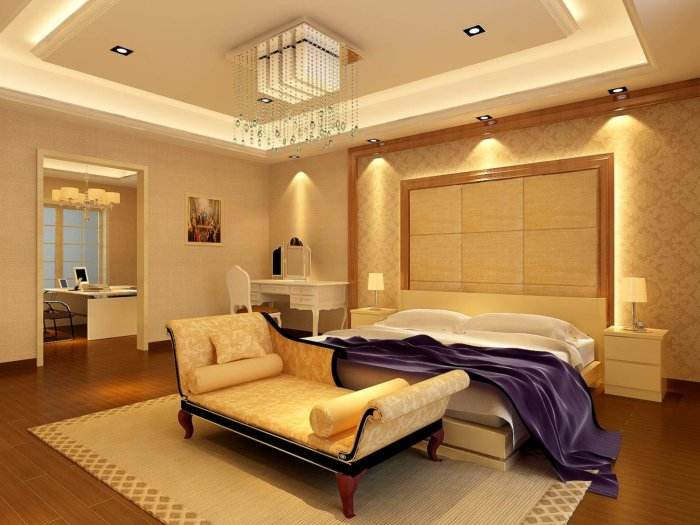床: (300, 325, 592, 442)
枕头: (374, 309, 587, 341), (194, 324, 281, 384)
灯: (215, 17, 366, 162), (620, 278, 654, 330), (365, 272, 389, 307), (108, 44, 136, 60), (465, 24, 493, 39), (612, 86, 636, 98), (479, 114, 501, 126)
